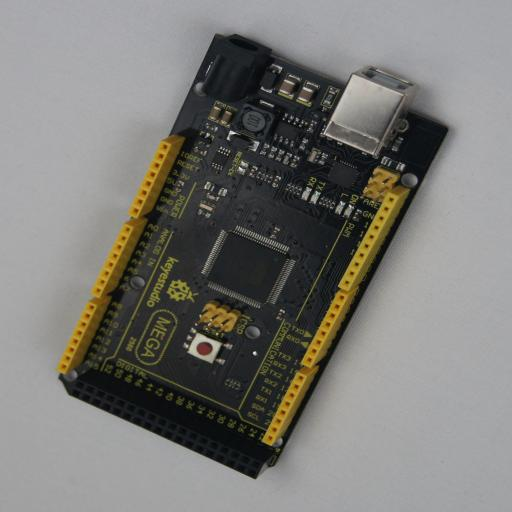Arduino Mega 2560 -Black and Yellow-: (58, 34, 450, 479)
